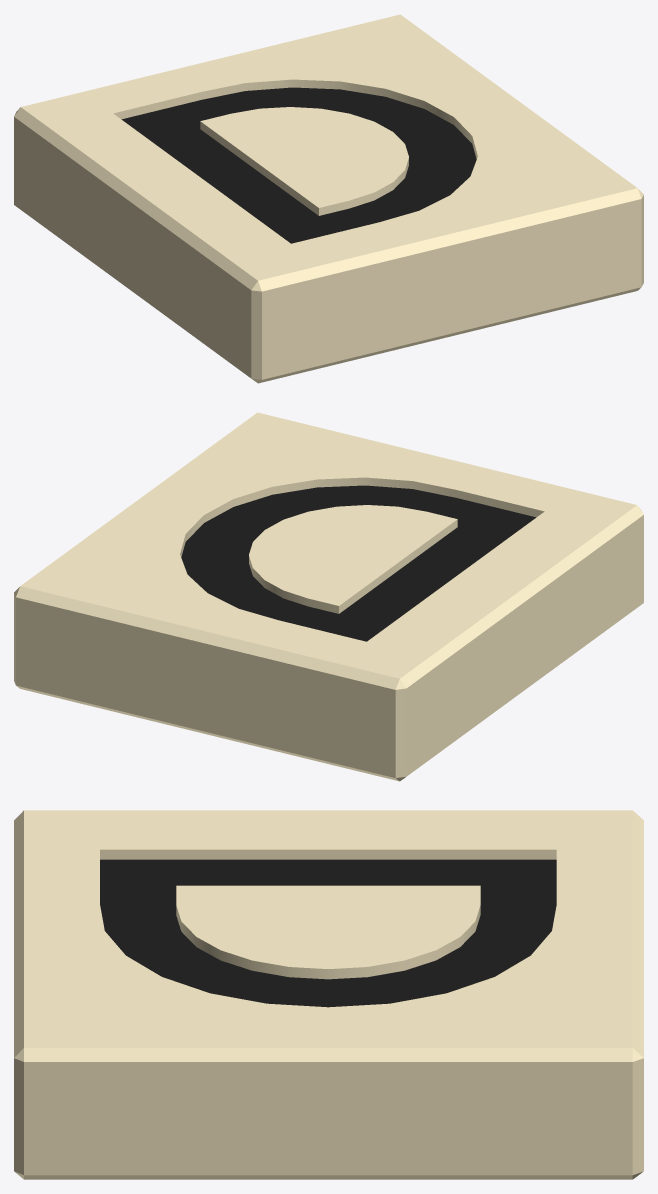
Rendered from Game_Anagram_Tile_D_01.fbx.
The picture shows the model from 3 angles, top to bottom: view 1: azimuth 30°, elevation 25°; view 2: azimuth 150°, elevation 25°; view 3: azimuth 270°, elevation 25°; orthographic projection. The views are drawn at different scales.
Parts seen in each view (by area): view 1: Game_Anagram_Tile_D_01; view 2: Game_Anagram_Tile_D_01; view 3: Game_Anagram_Tile_D_01.
Boxes of the visible parts, <box> form: Game_Anagram_Tile_D_01: <box>14,14,643,383</box>; Game_Anagram_Tile_D_01: <box>14,412,643,781</box>; Game_Anagram_Tile_D_01: <box>14,810,643,1179</box>.
Size of the model in its own units: 16.4 by 4.1 by 17.77.
